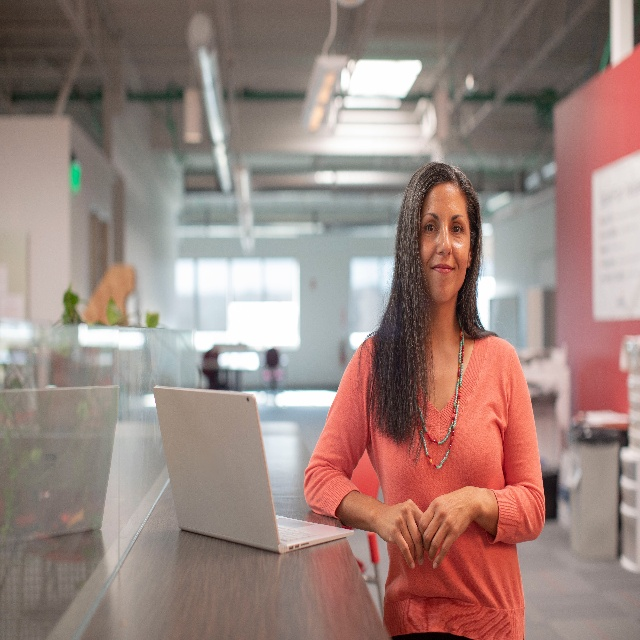Sin_guantes: (418, 482, 476, 563), (376, 500, 424, 563)
